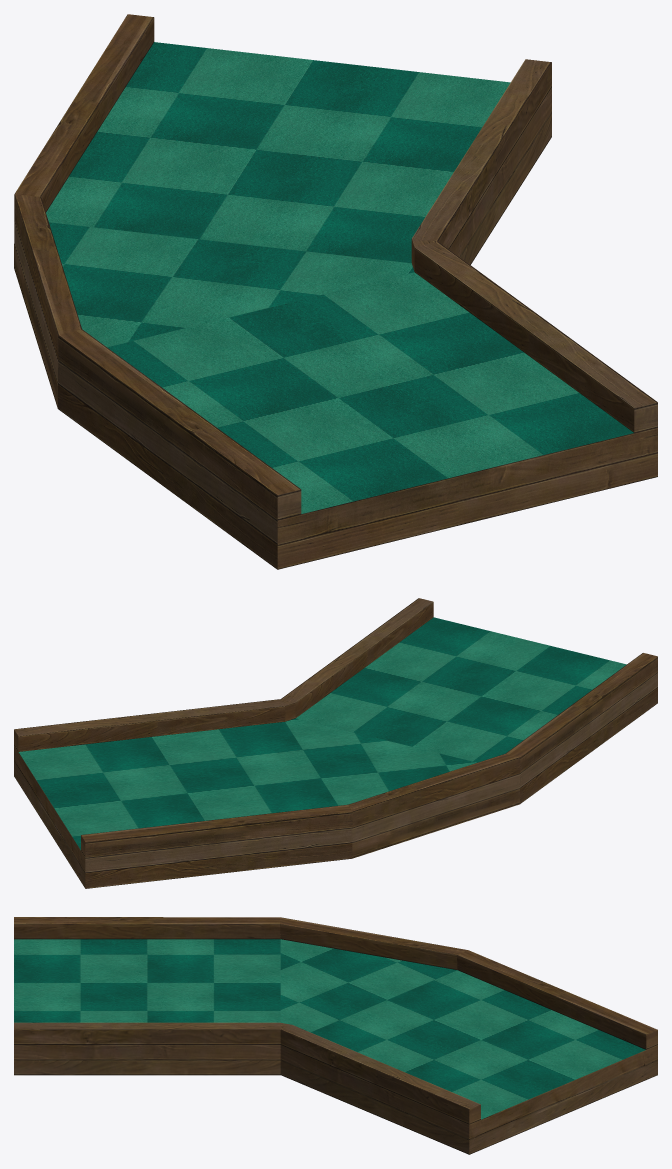
3 renders of one model, top to bottom at view 1: azimuth 30°, elevation 25°; view 2: azimuth 150°, elevation 25°; view 3: azimuth 270°, elevation 25°, orthographic. The views are drawn at different scales.
Visible parts, largest first — view 1: Part8_glb; view 2: Part8_glb; view 3: Part8_glb.
Boxes of the visible parts, x1,y1,x2,y2 form: Part8_glb: (14,14,657,569); Part8_glb: (14,598,657,888); Part8_glb: (14,917,657,1154).
Size of what is drawn, in the model's own units: 6.83 by 0.75 by 9.66.
Materials: 2 (2 with a texture image).
